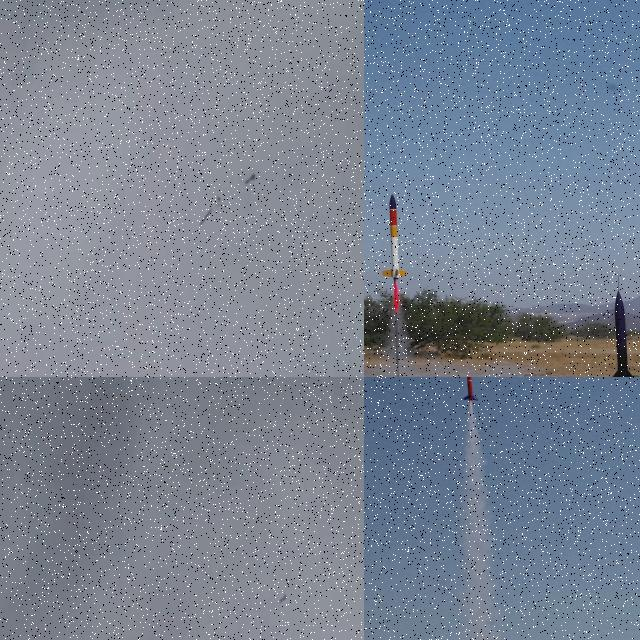Rocket: (609, 290, 636, 377), (382, 194, 408, 280), (463, 377, 478, 401), (244, 172, 256, 185), (279, 594, 287, 604)
